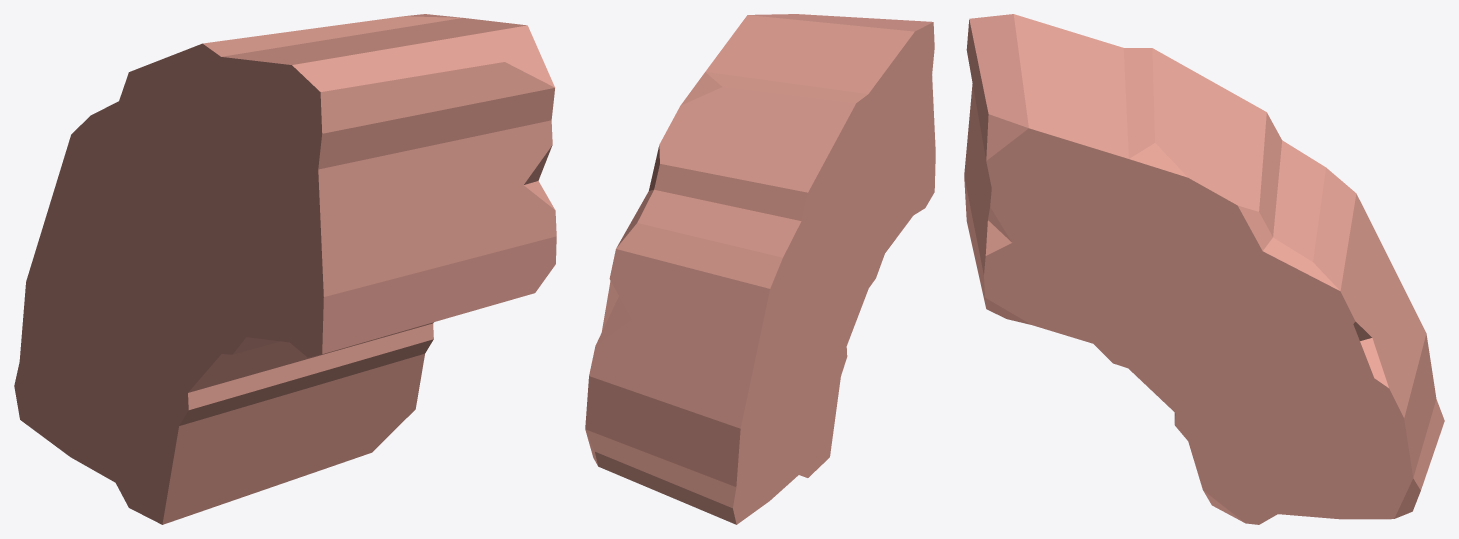
The model's file is SuperGrid_RingQuarter_011_Vlad.fbx.
3 views of the same model, side by side, from view 1: azimuth 30°, elevation 25°; view 2: azimuth 150°, elevation 25°; view 3: azimuth 270°, elevation 25° (orthographic). The views are drawn at different scales.
Visible parts, largest first — view 1: SuperGrid_RingQuarter.011; view 2: SuperGrid_RingQuarter.011; view 3: SuperGrid_RingQuarter.011.
Part boxes in pixels (x1,y1,x2,y2): SuperGrid_RingQuarter.011: (14, 14, 556, 524); SuperGrid_RingQuarter.011: (585, 14, 935, 524); SuperGrid_RingQuarter.011: (964, 14, 1444, 524).
Bounding box in the file's own units: 10000 × 21869 × 21831.
